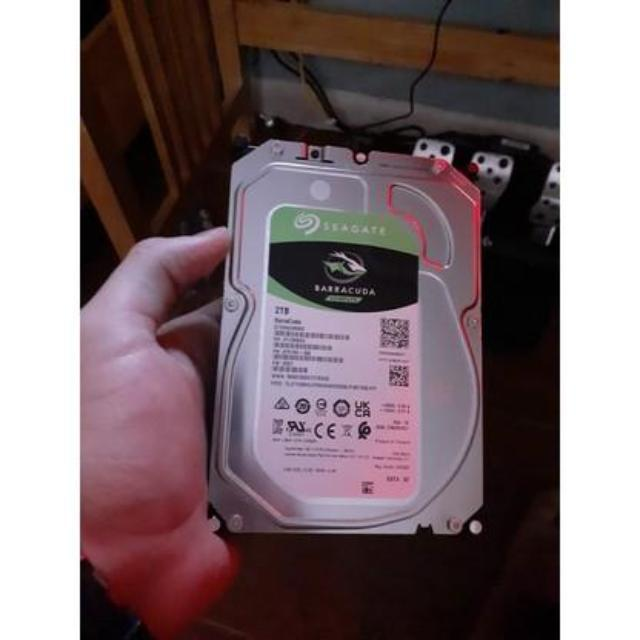DISK: (208, 145, 486, 533)
